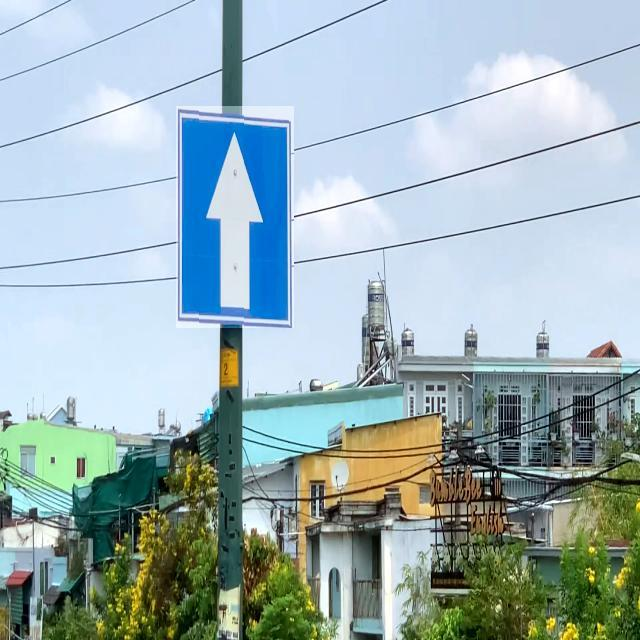R-407a: (176, 106, 294, 328)
